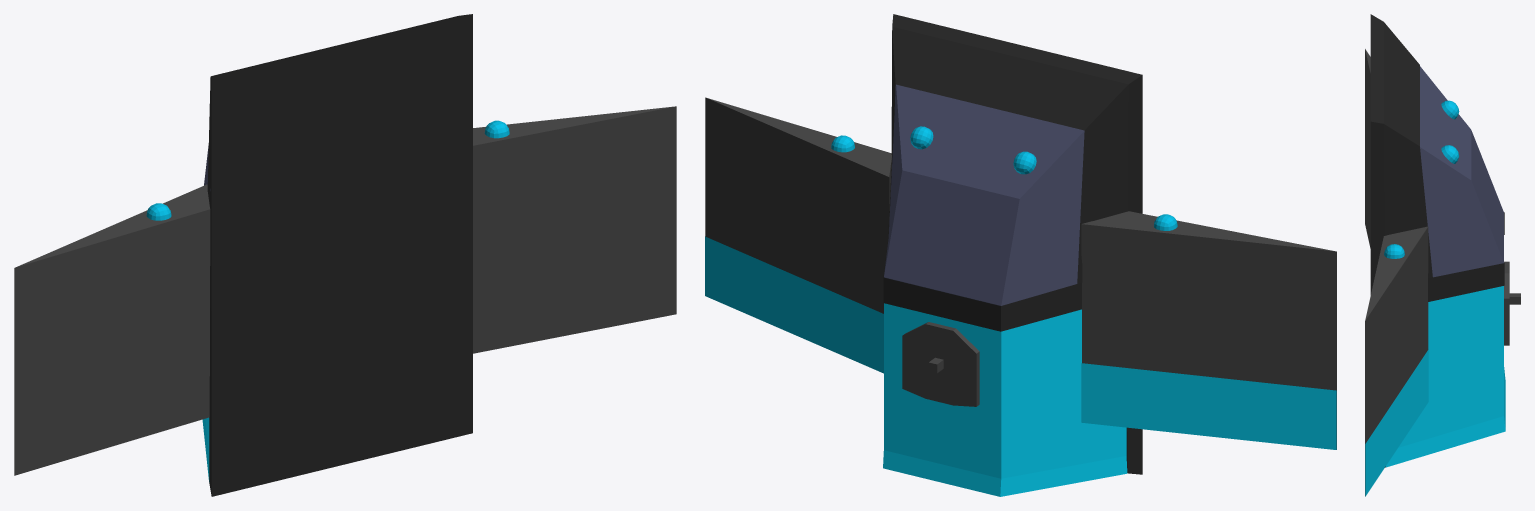
The model's file is Pet Esq.fbx.
3 views of the same model, side by side, from view 1: azimuth 30°, elevation 25°; view 2: azimuth 150°, elevation 25°; view 3: azimuth 270°, elevation 25° (orthographic). The views are drawn at different scales.
Visible parts, largest first — view 1: Cube.001, Cube.011, Cube.012; view 2: Cube.011, Cube, Cube.004, Cube.007, Cube.001, Cube.005, Cube.003, Cube.008; view 3: Cube.011, Cube.004, Cube, Cube.007, Cube.001, Cube.003, Cube.005, Cube.008, Cube.012.
Part boxes in pixels (x1=…): Cube.001: x1=209, y1=14, x2=472, y2=496; Cube.011: x1=14, y1=106, x2=676, y2=475; Cube.012: x1=146, y1=120, x2=509, y2=220; Cube.011: x1=705, y1=97, x2=1336, y2=449; Cube: x1=884, y1=84, x2=1084, y2=305; Cube.004: x1=883, y1=303, x2=1127, y2=496; Cube.007: x1=888, y1=27, x2=1128, y2=283; Cube.001: x1=892, y1=14, x2=1142, y2=474; Cube.005: x1=902, y1=322, x2=979, y2=406; Cube.003: x1=883, y1=236, x2=1081, y2=331; Cube.008: x1=910, y1=126, x2=1036, y2=174; Cube.011: x1=1365, y1=49, x2=1428, y2=496; Cube.004: x1=1386, y1=286, x2=1505, y2=467; Cube: x1=1420, y1=66, x2=1503, y2=277; Cube.007: x1=1384, y1=22, x2=1432, y2=278; Cube.001: x1=1370, y1=14, x2=1385, y2=467; Cube.003: x1=1428, y1=212, x2=1504, y2=301; Cube.005: x1=1504, y1=261, x2=1509, y2=345; Cube.008: x1=1441, y1=100, x2=1459, y2=163; Cube.012: x1=1384, y1=244, x2=1404, y2=258.
Bounding box in the file's own units: 148 × 89.49 × 35.74.
